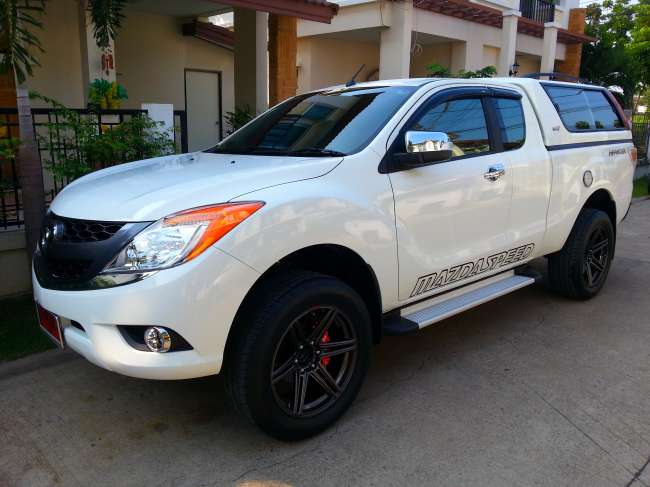pickup: (30, 73, 637, 446)
